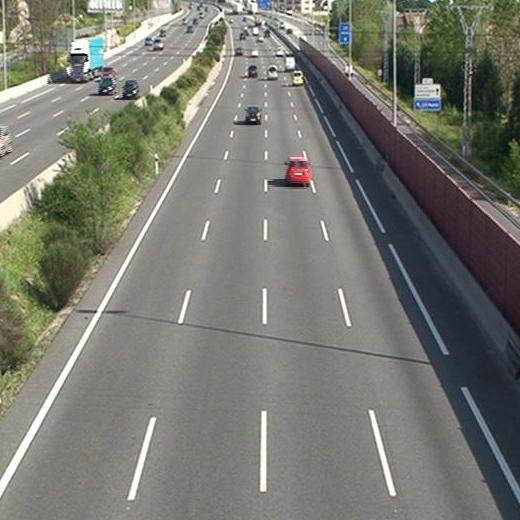car: (285, 156, 311, 183), (245, 106, 261, 123), (292, 71, 303, 85), (247, 65, 258, 76)
van: (284, 56, 295, 70), (266, 65, 277, 79)
